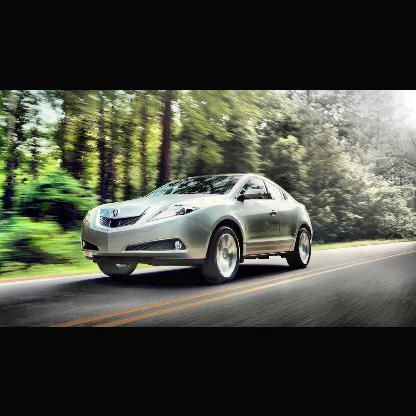Acura ZDX Hatchback 2012: (80, 172, 315, 284)
